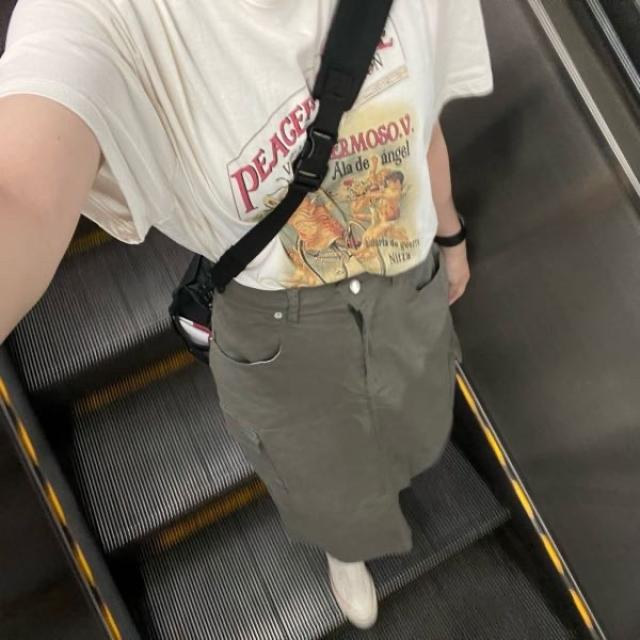shortsleeve: (0, 0, 495, 293)
skirt: (208, 252, 456, 563)
